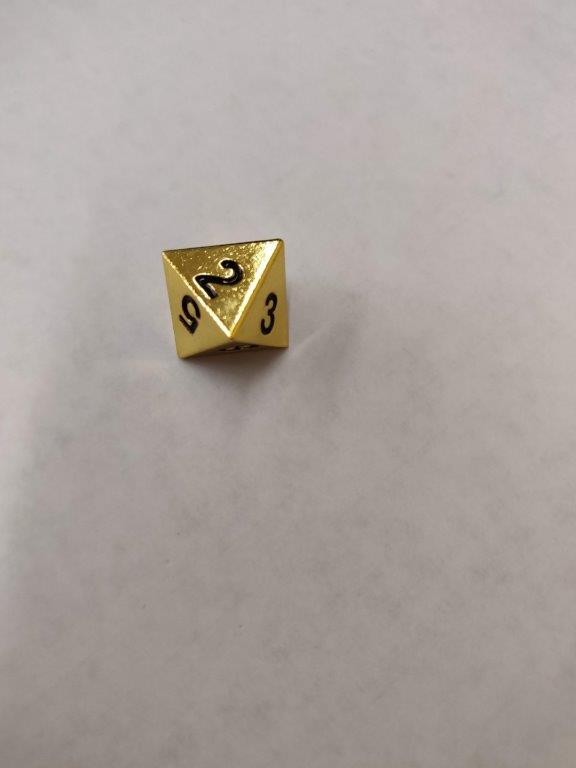d8-2: (158, 236, 293, 362)
